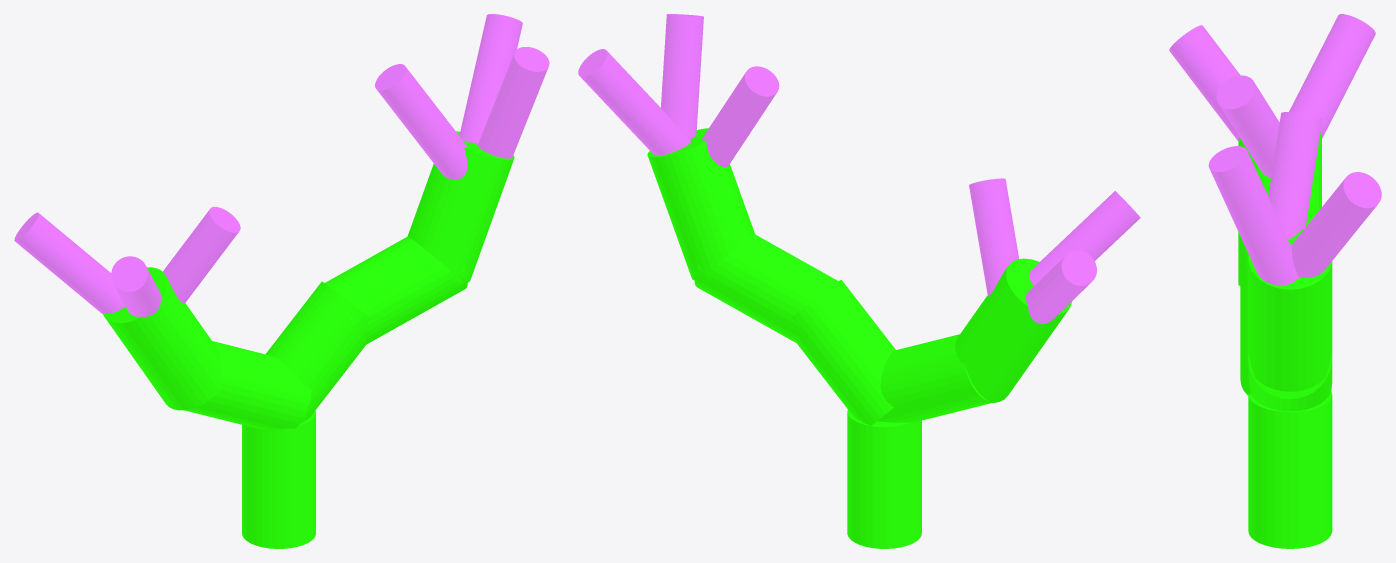
The model's file is Coral.fbx.
The picture shows the model from 3 angles, left to right: view 1: azimuth 30°, elevation 25°; view 2: azimuth 150°, elevation 25°; view 3: azimuth 270°, elevation 25°; orthographic projection. The views are drawn at different scales.
Parts seen in each view (by area): view 1: Cylinder, Cylinder.003, Cylinder.005, Cylinder.004, Cylinder.001, Cylinder.002, Cylinder.007, Cylinder.009, Cylinder.008, Cylinder.006, Cylinder.011, Cylinder.010; view 2: Cylinder, Cylinder.005, Cylinder.001, Cylinder.003, Cylinder.004, Cylinder.002, Cylinder.006, Cylinder.008, Cylinder.007, Cylinder.011, Cylinder.010, Cylinder.009; view 3: Cylinder, Cylinder.005, Cylinder.008, Cylinder.006, Cylinder.007, Cylinder.009, Cylinder.011, Cylinder.010, Cylinder.001, Cylinder.003, Cylinder.002, Cylinder.004.
Boxes of the visible parts, x1=… form: Cylinder: x1=242, y1=410, x2=315, y2=548; Cylinder.003: x1=102, y1=267, x2=222, y2=410; Cylinder.005: x1=407, y1=131, x2=514, y2=282; Cylinder.004: x1=325, y1=236, x2=467, y2=344; Cylinder.001: x1=266, y1=281, x2=371, y2=423; Cylinder.002: x1=185, y1=341, x2=311, y2=429; Cylinder.007: x1=375, y1=64, x2=467, y2=179; Cylinder.009: x1=14, y1=212, x2=125, y2=313; Cylinder.008: x1=477, y1=47, x2=549, y2=158; Cylinder.006: x1=459, y1=14, x2=522, y2=144; Cylinder.011: x1=163, y1=207, x2=240, y2=303; Cylinder.010: x1=111, y1=256, x2=161, y2=316; Cylinder: x1=847, y1=409, x2=921, y2=548; Cylinder.005: x1=647, y1=128, x2=755, y2=280; Cylinder.001: x1=791, y1=279, x2=895, y2=425; Cylinder.003: x1=955, y1=258, x2=1071, y2=402; Cylinder.004: x1=694, y1=234, x2=838, y2=342; Cylinder.002: x1=878, y1=334, x2=990, y2=422; Cylinder.006: x1=578, y1=49, x2=690, y2=155; Cylinder.008: x1=661, y1=14, x2=703, y2=139; Cylinder.007: x1=702, y1=66, x2=779, y2=166; Cylinder.011: x1=969, y1=178, x2=1019, y2=296; Cylinder.010: x1=1029, y1=191, x2=1140, y2=285; Cylinder.009: x1=1026, y1=250, x2=1096, y2=324; Cylinder: x1=1248, y1=391, x2=1332, y2=548; Cylinder.005: x1=1248, y1=229, x2=1332, y2=391; Cylinder.008: x1=1208, y1=146, x2=1298, y2=285; Cylinder.006: x1=1291, y1=172, x2=1381, y2=277; Cylinder.007: x1=1268, y1=112, x2=1322, y2=239; Cylinder.009: x1=1289, y1=14, x2=1375, y2=138; Cylinder.011: x1=1216, y1=75, x2=1279, y2=177; Cylinder.010: x1=1169, y1=25, x2=1240, y2=140; Cylinder.001: x1=1248, y1=361, x2=1332, y2=411; Cylinder.003: x1=1238, y1=133, x2=1321, y2=285; Cylinder.002: x1=1240, y1=264, x2=1250, y2=395; Cylinder.004: x1=1248, y1=353, x2=1332, y2=399.
Size of the model in its own units: 790 by 663 by 254.
